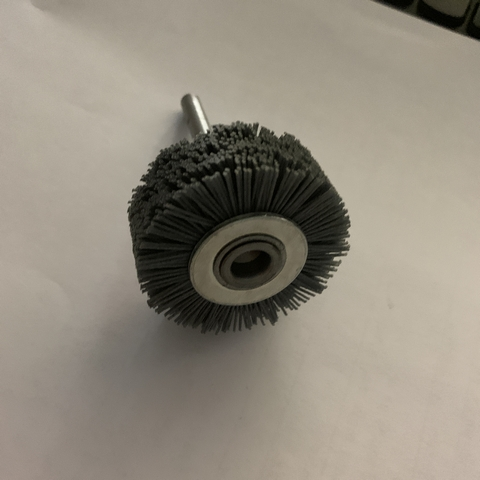Wheel Brush: (49, 109, 383, 355), (121, 84, 386, 357), (133, 83, 346, 318)
